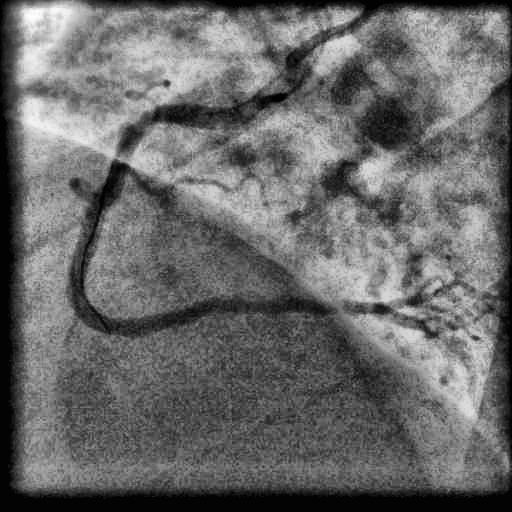pborca: (387, 279, 493, 311)
pda: (385, 310, 441, 338)
rca: (69, 103, 386, 337)
